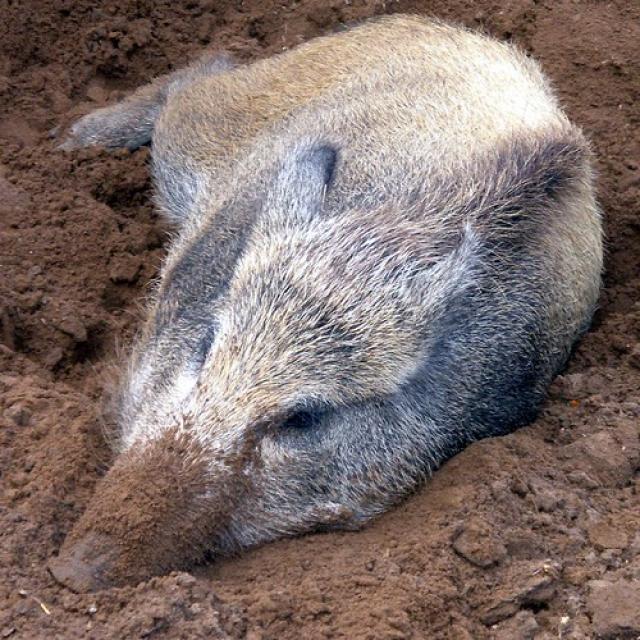boar: (11, 0, 640, 619)
